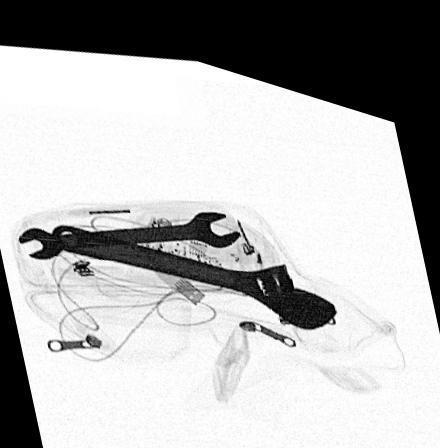Wrench: (50, 221, 338, 310), (20, 199, 240, 257)
